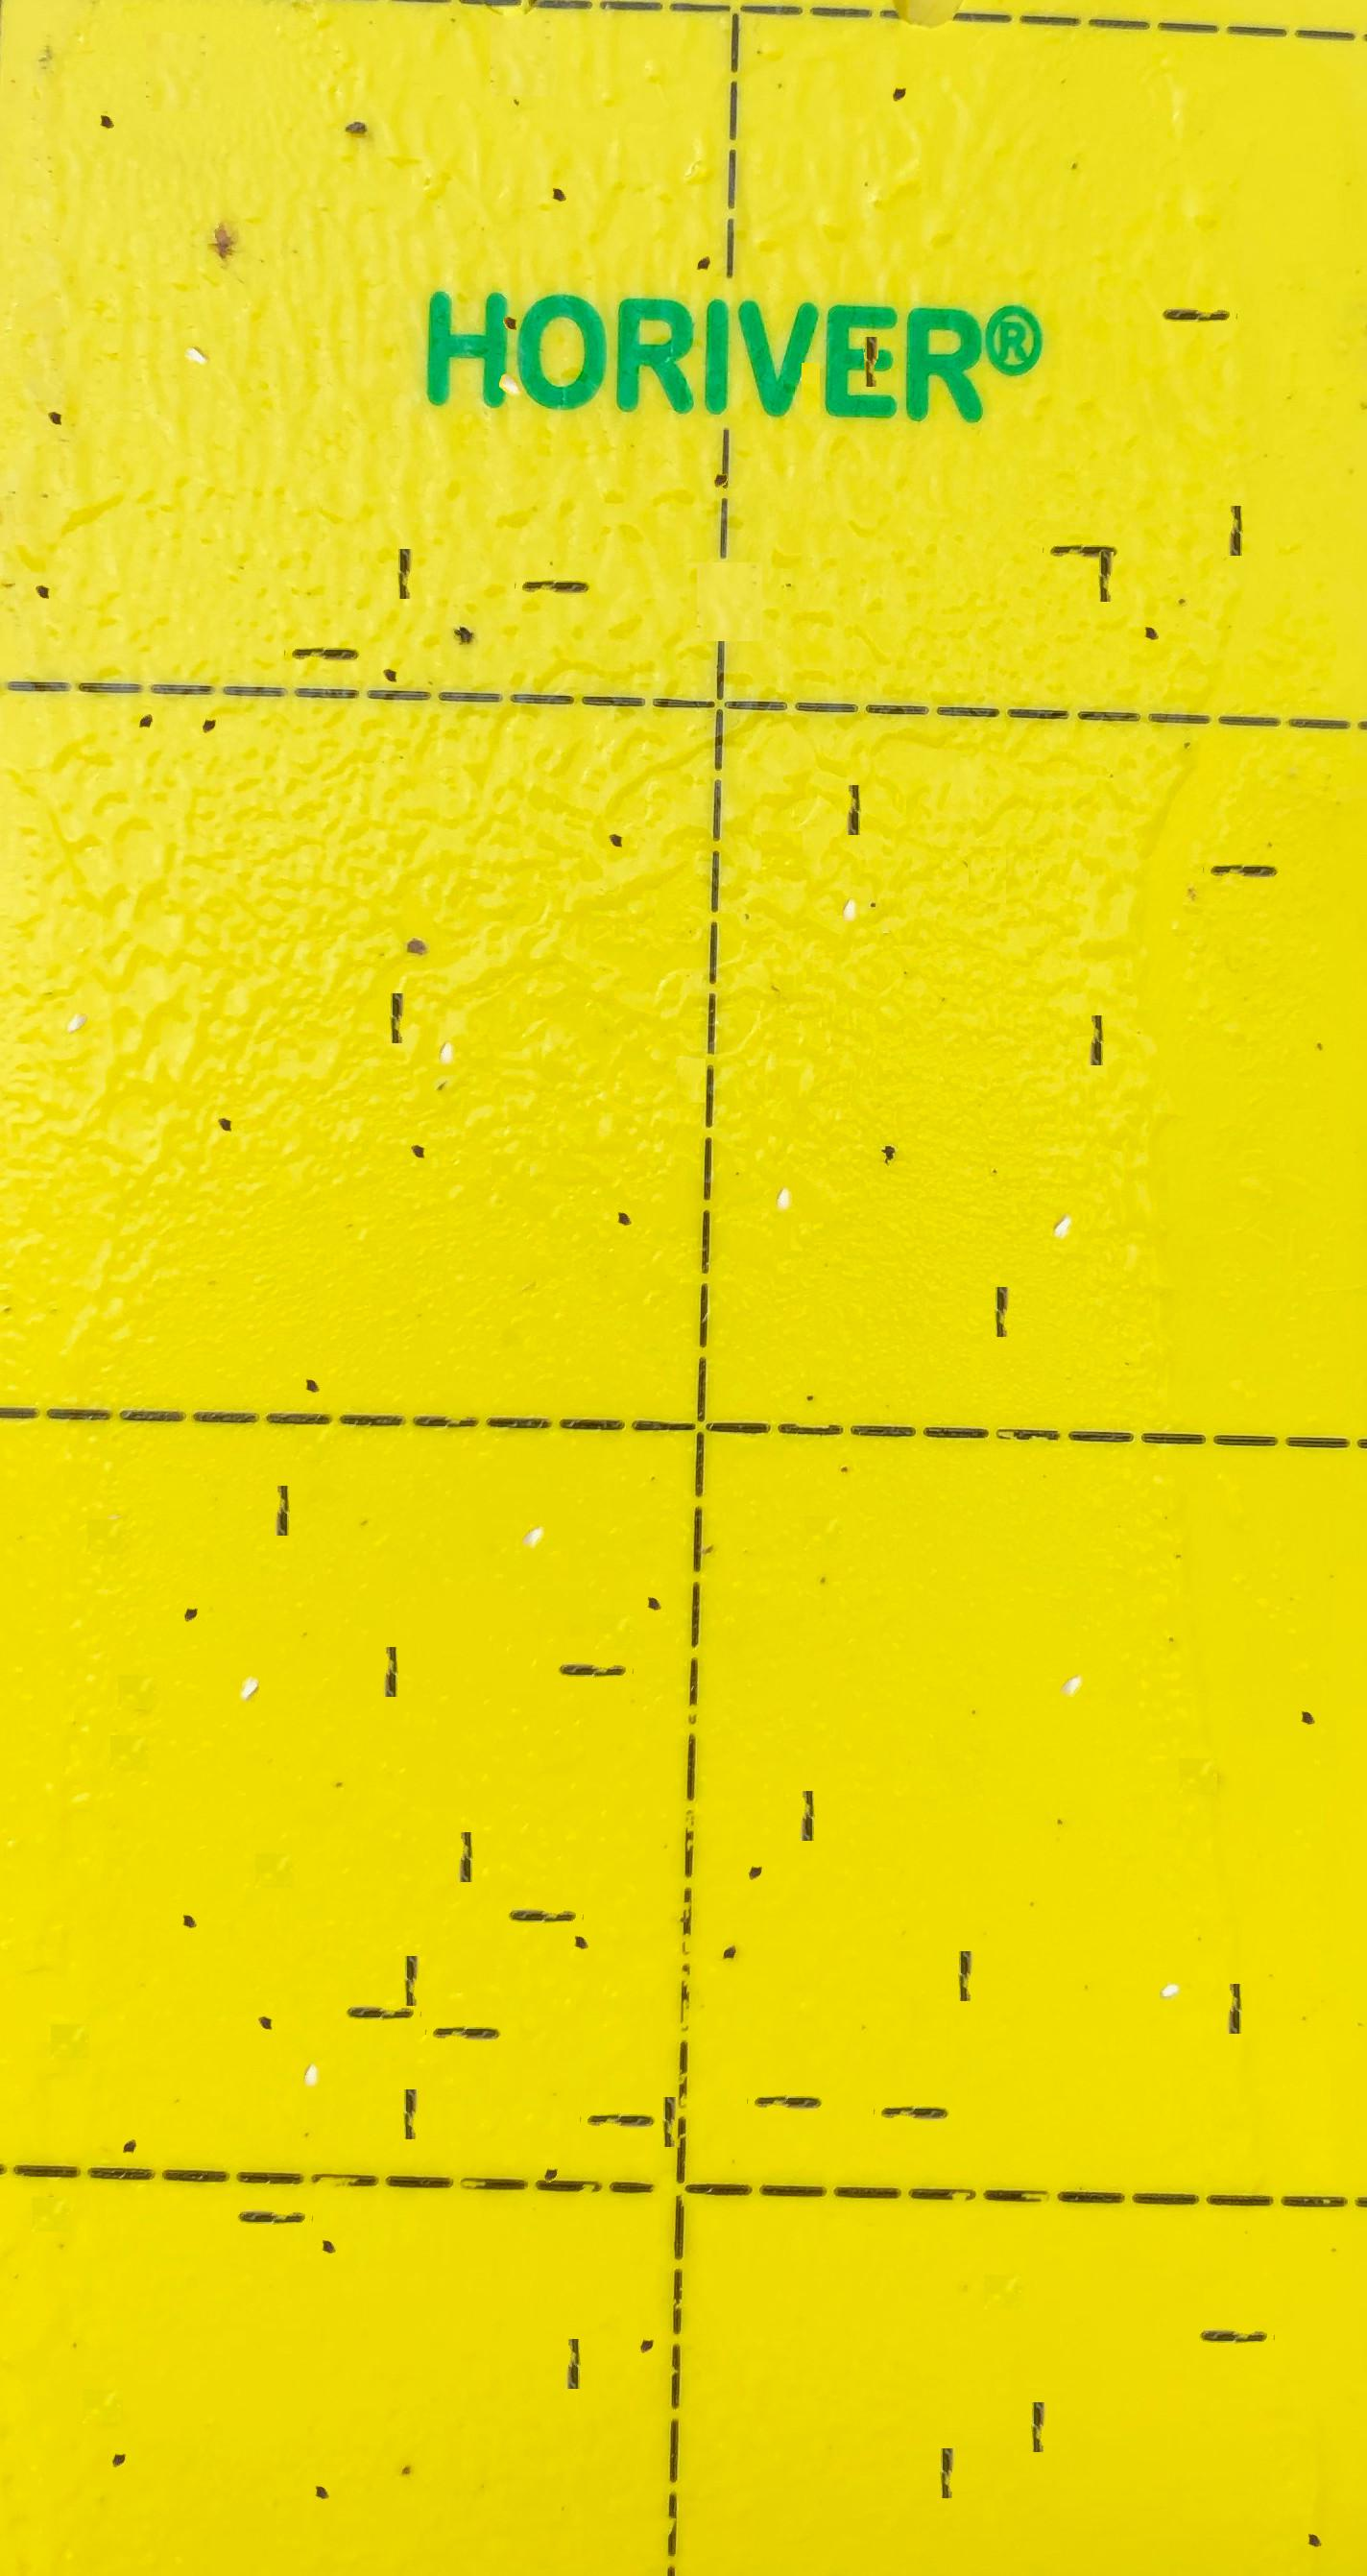white_fly: (172, 290, 215, 336), (1043, 1162, 1086, 1208), (1151, 1920, 1191, 1968), (227, 1619, 269, 1663), (511, 1474, 554, 1516), (1050, 1622, 1093, 1665), (56, 957, 97, 1000), (489, 320, 530, 363), (827, 855, 869, 893), (290, 2021, 331, 2058), (762, 1143, 803, 1181), (424, 998, 465, 1036)
